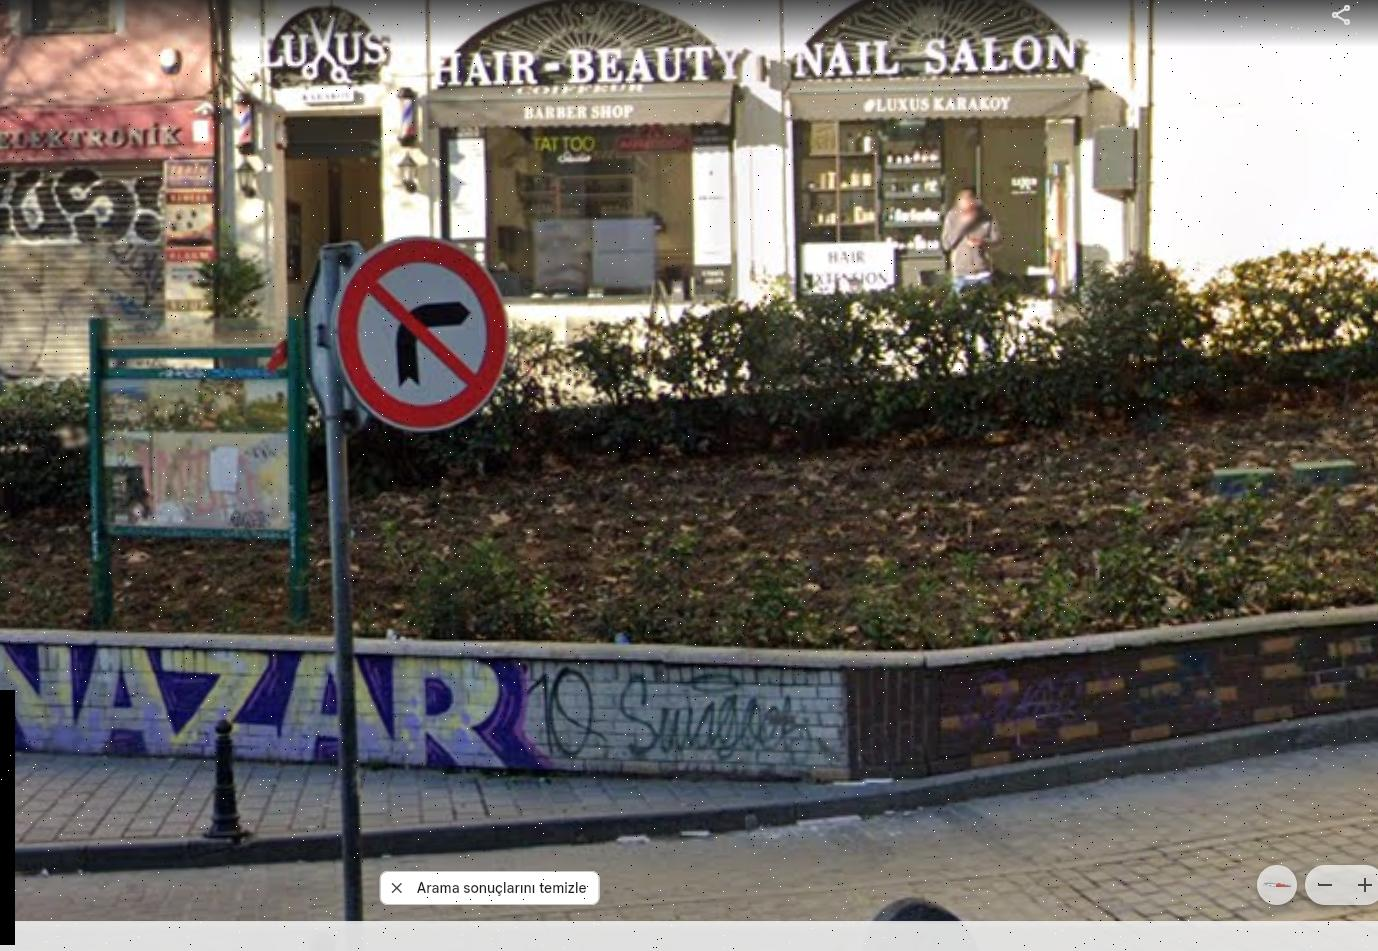rightturnsareforbidden: (341, 248, 502, 428)
